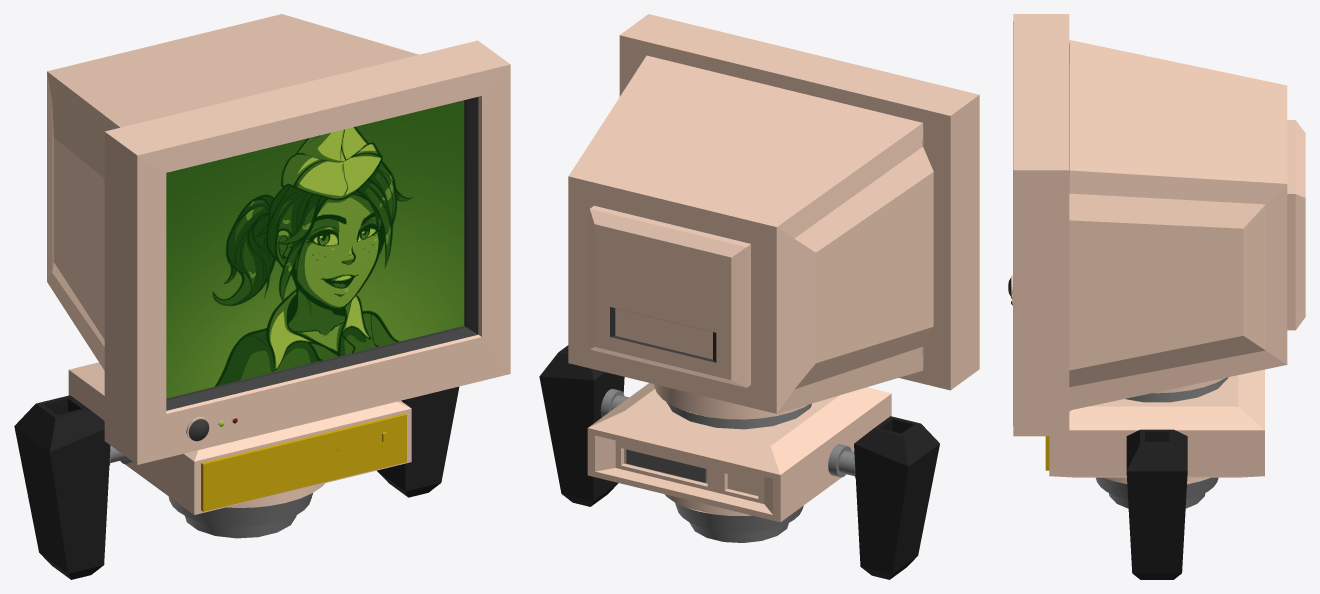
File: Eden Bot SNACC.fbx
The picture shows the model from 3 angles, left to right: view 1: azimuth 30°, elevation 25°; view 2: azimuth 150°, elevation 25°; view 3: azimuth 270°, elevation 25°; orthographic projection. The views are drawn at different scales.
Visible parts, largest first — view 1: monitor front.003, monitor box.003, thrusters.003, label plate.003, monitor base.003; view 2: monitor box.003, monitor front.003, monitor base.003, thrusters.003, monitor neck.003; view 3: monitor box.003, monitor front.003, monitor base.003, thrusters.003, monitor neck.003.
Boxes of the visible parts, x1,y1,x2,y2 form: monitor front.003: (104,40,510,464); monitor box.003: (47,14,418,370); thrusters.003: (14,386,459,579); label plate.003: (201,413,406,511); monitor base.003: (68,362,411,514); monitor box.003: (568,55,933,413); monitor front.003: (619,14,979,390); monitor base.003: (587,383,891,522); thrusters.003: (539,345,939,579); monitor neck.003: (654,384,811,429); monitor box.003: (1069,40,1305,410); monitor front.003: (1013,14,1069,436); monitor base.003: (1049,369,1264,477); thrusters.003: (1096,429,1218,579); monitor neck.003: (1125,377,1228,402).
Bounding box in the file's own units: 70.24 × 77.49 × 50.64.
Materials: 6 (6 with a texture image).
